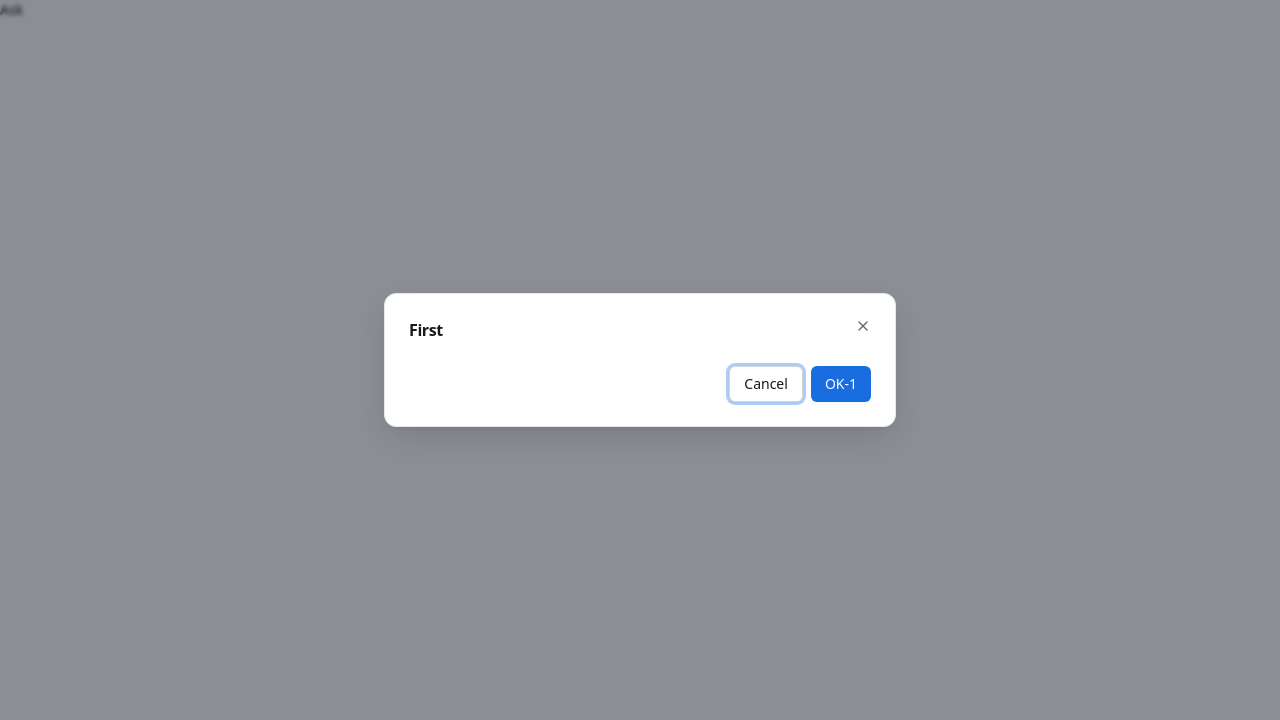
Test case: useConfirm › queues concurrent requests one at a time
The width and height of the screenshot is (1280, 720).
Later steps or results of the test are not shown.
Check: the heading "First" is shown, box [409, 319, 443, 341]
Check: the text "Second" is not shown
Click the button "OK-1": (841, 384) [811, 366, 871, 402]
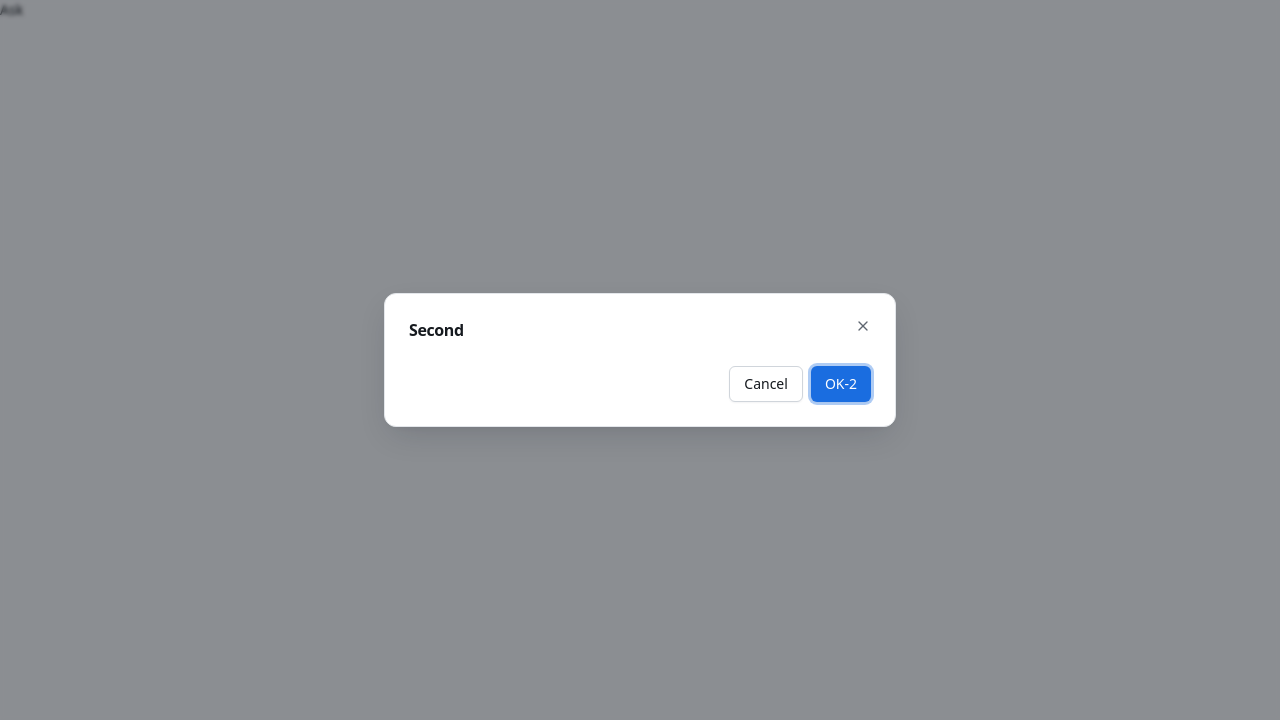
Check: the heading "Second" is shown, box [409, 319, 464, 341]
